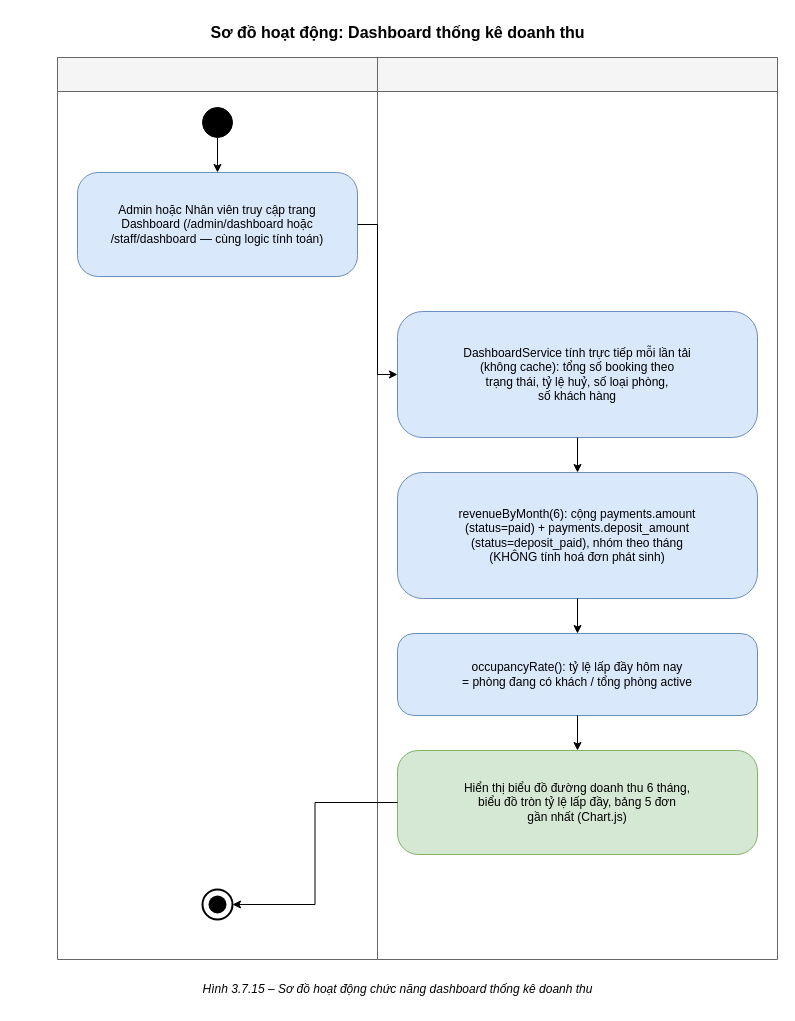
Image size: 795x1021. Some labels were removed from this diagram. Each missing label, with the box of its shape:
Admin / Nhân viên: (56, 56, 378, 960)
Hệ thống: (376, 56, 778, 960)
